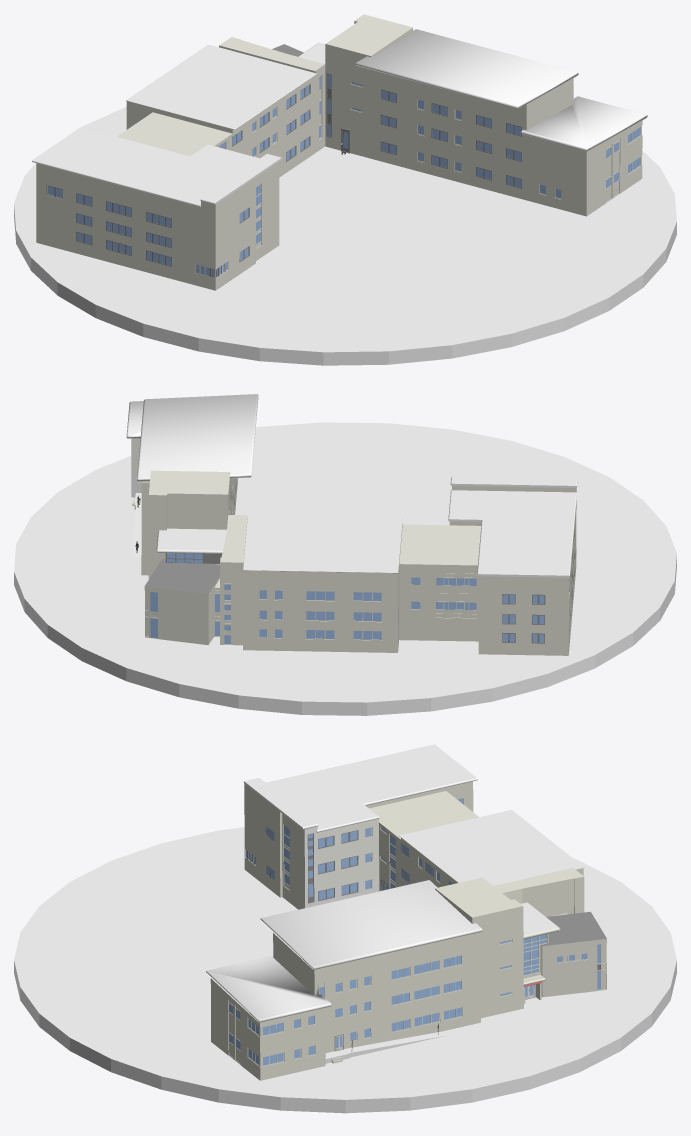
File: c&tBuilding.gltf
3 renders of one model, top to bottom at view 1: azimuth 30°, elevation 25°; view 2: azimuth 150°, elevation 25°; view 3: azimuth 270°, elevation 25°, orthographic.
Visible parts, largest first — view 1: FinalModel, Cylinder; view 2: Cylinder, FinalModel; view 3: FinalModel, Cylinder.
Part boxes in pixels (box(x1,y1,x2,y2)): FinalModel: box(32, 14, 647, 290); Cylinder: box(14, 106, 676, 365); Cylinder: box(14, 422, 676, 715); FinalModel: box(126, 394, 577, 655); FinalModel: box(206, 744, 606, 1080); Cylinder: box(14, 827, 676, 1113).
Size of the model in its own units: 90 by 22.78 by 90.
